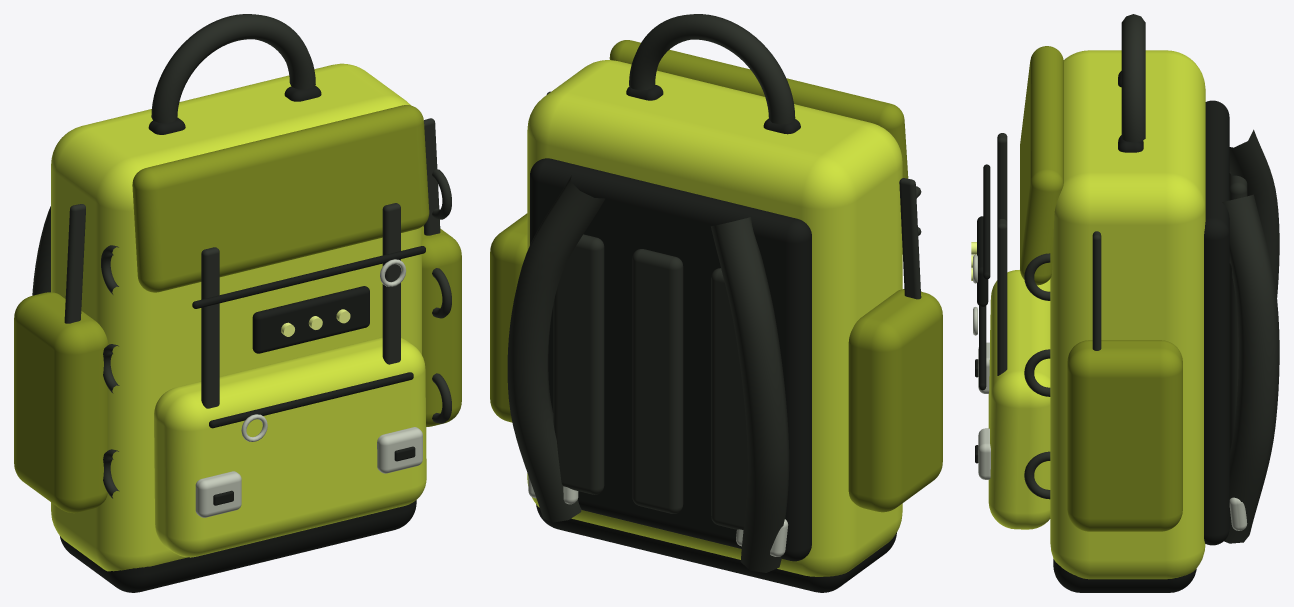
The model's file is lumapack.glb.
3 views of the same model, side by side, from view 1: azimuth 30°, elevation 25°; view 2: azimuth 150°, elevation 25°; view 3: azimuth 270°, elevation 25° (orthographic). The views are drawn at different scales.
Parts seen in each view (by area): view 1: Shell_Main, Shell_FrontPocket, Shell_TopFlap, Shell_SidePocket_L, Shell_BaseGuard, Webbing_Handle, Shell_SidePocket_R, Logo_Plate, Webbing_Front_L, Webbing_Front_R, Zipper_Main, Webbing_Side_L (+6 smaller); view 2: Shell_Main, Back_Panel, Back_AirChannel (×3), Shell_SidePocket_L, Webbing_Shoulder_L, Webbing_Shoulder_R, Webbing_Handle, Shell_TopFlap, Shell_SidePocket_R, Shell_BaseGuard, Webbing_Side_L; view 3: Shell_Main, Shell_SidePocket_R, Shell_FrontPocket, Webbing_Shoulder_R, Back_Panel, Shell_TopFlap, Webbing_Shoulder_L, Webbing_Handle, Shell_BaseGuard, Webbing_UtilityLoop (×3), Back_AirChannel (×2), Webbing_Front_R (+7 smaller).
Part boxes in pixels (bbox=[...]): Shell_Main: bbox=[51, 63, 421, 571]; Shell_FrontPocket: bbox=[154, 337, 426, 557]; Shell_TopFlap: bbox=[132, 105, 429, 292]; Shell_SidePocket_L: bbox=[14, 292, 107, 513]; Shell_BaseGuard: bbox=[60, 500, 416, 592]; Webbing_Handle: bbox=[151, 14, 315, 123]; Shell_SidePocket_R: bbox=[422, 225, 461, 427]; Logo_Plate: bbox=[252, 286, 369, 353]; Webbing_Front_L: bbox=[201, 247, 219, 408]; Webbing_Front_R: bbox=[382, 203, 400, 364]; Zipper_Main: bbox=[192, 246, 425, 308]; Webbing_Side_L: bbox=[64, 204, 85, 323]; Shell_Main: bbox=[527, 60, 902, 576]; Back_Panel: bbox=[530, 158, 811, 561]; Back_AirChannel (×3): bbox=[553, 234, 747, 529]; Shell_SidePocket_L: bbox=[848, 289, 942, 512]; Webbing_Shoulder_L: bbox=[711, 217, 789, 572]; Webbing_Shoulder_R: bbox=[507, 175, 604, 522]; Webbing_Handle: bbox=[629, 14, 795, 124]; Shell_TopFlap: bbox=[609, 40, 908, 178]; Shell_SidePocket_R: bbox=[490, 213, 527, 422]; Shell_BaseGuard: bbox=[536, 504, 896, 592]; Webbing_Side_L: bbox=[899, 178, 921, 299]; Shell_Main: bbox=[1050, 50, 1205, 579]; Shell_SidePocket_R: bbox=[1067, 340, 1182, 531]; Shell_FrontPocket: bbox=[988, 270, 1050, 529]; Webbing_Shoulder_R: bbox=[1222, 194, 1279, 543]; Back_Panel: bbox=[1204, 100, 1229, 545]; Shell_TopFlap: bbox=[1020, 46, 1063, 285]; Webbing_Shoulder_L: bbox=[1229, 129, 1279, 297]; Webbing_Handle: bbox=[1121, 14, 1145, 142]; Shell_BaseGuard: bbox=[1053, 559, 1196, 592]; Webbing_UtilityLoop (×3): bbox=[1024, 253, 1050, 499]; Back_AirChannel (×2): bbox=[1229, 173, 1247, 452]; Webbing_Front_R: bbox=[997, 219, 1007, 375].
Size of the model in its own units: 3.22 by 3.97 by 2.18.
